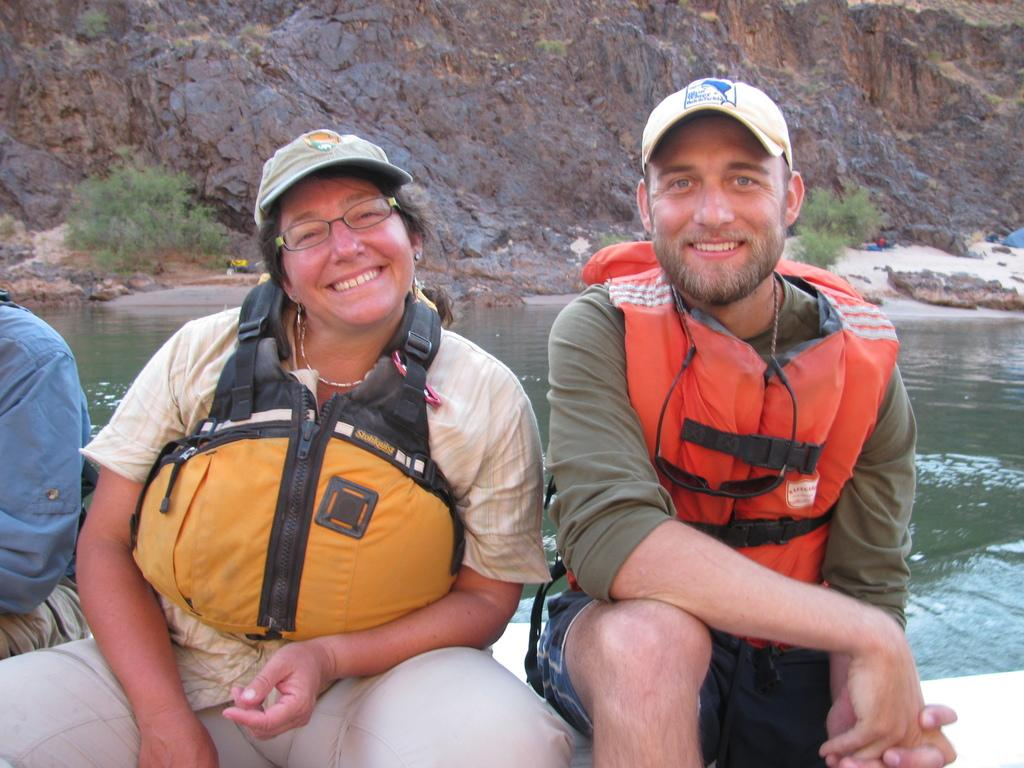Hat: (637, 75, 791, 174), (258, 127, 406, 224)
